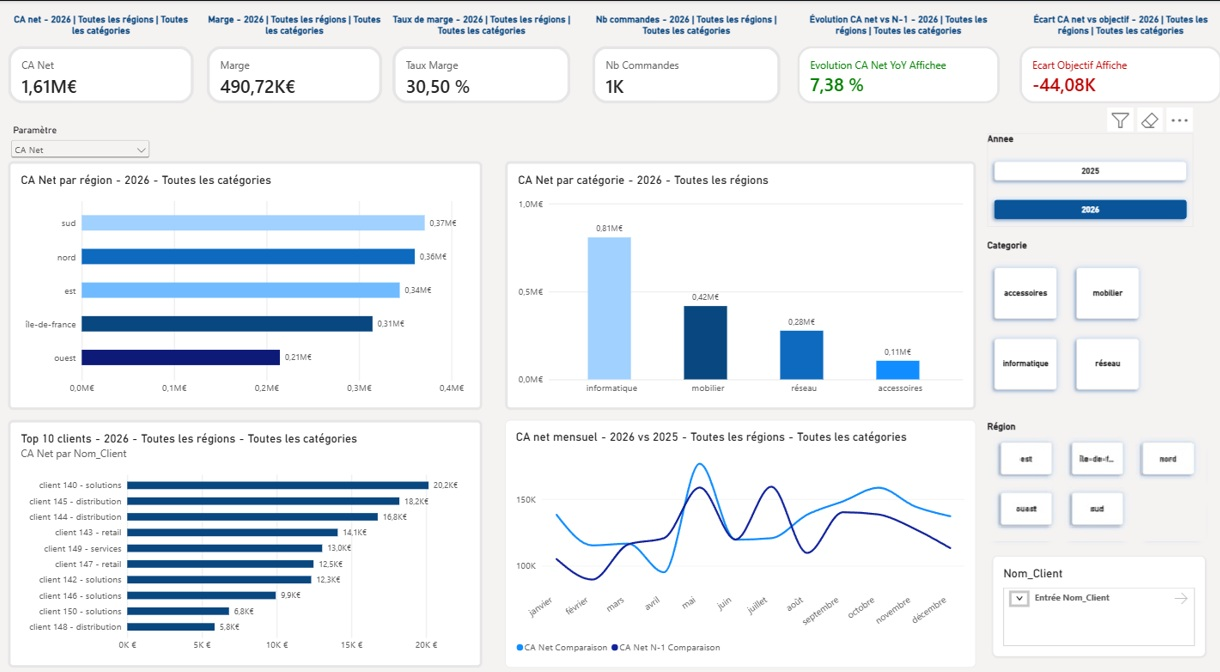

Layout of this report page (visuals, bound fields, positions):
{"tool":"powerbi","page":{"name":"Vue Direction","canvas":[1920,1080],"ordinal":0},"visuals":[{"type":"cardVisual","fields":{"Data":["Mesures.CA Net"]},"box":[16.6,21.3,290,140],"z":0},{"type":"cardVisual","fields":{"Data":["Mesures.Marge"]},"box":[326.6,21.3,274,140],"z":1000},{"type":"cardVisual","fields":{"Data":["Mesures.Taux Marge"]},"box":[616.6,21.3,278,140],"z":2000},{"type":"cardVisual","fields":{"Data":["Mesures.Nb Commandes"]},"box":[928.6,21.3,294,140],"z":3000},{"type":"cardVisual","fields":{"Data":["Mesures.Evolution CA Net YoY Affichee"]},"box":[1248.6,21.3,316,140],"z":4000},{"type":"clusteredBarChart","fields":{"Category":["DimClients.Region"],"Y":["Mesures.CA Net"]},"box":[16,252,740,388],"z":5000},{"type":"clusteredColumnChart","fields":{"Category":["DimProduit.Categorie"],"Y":["Mesures.CA Net"]},"box":[792,252,734,388],"z":6000},{"type":"clusteredBarChart","fields":{"Category":["DimClients.Nom_Client"],"Y":["Mesures.CA Net"]},"box":[16.6,655.3,740,386],"z":7000},{"type":"advancedSlicerVisual","fields":{"Values":["DimDate.Annee"]},"box":[1544,208,322,146],"z":8000},{"type":"advancedSlicerVisual","title":"Région","fields":{"Values":["DimClients.Region"]},"box":[1544,656,348,192],"z":9000},{"type":"textSlicer","fields":{"Values":["DimClients.Nom_Client"]},"box":[1552,864,332,160],"z":10000},{"type":"advancedSlicerVisual","fields":{"Values":["DimProduit.Categorie"]},"box":[1544,374,376,246],"z":11000},{"type":"cardVisual","fields":{"Data":["Mesures.Ecart Objectif Affiche"]},"box":[1594.6,21.3,316,140],"z":12000},{"type":"lineChart","fields":{"Category":["DimDate.Mois"],"Y":["Mesures.CA Net Comparaison","Mesures.CA Net N-1 Comparaison"]},"box":[792.6,655.3,734,386],"z":13000},{"type":"slicer","fields":{"Values":["Paramètre.Paramètre"]},"box":[16,194,226,88],"z":13001}]}

Visuals, with their boxes in screenshot pixels (x1, y1, x2, y2), scaled from the page's 1920x1080 canvas onto the 1220x672 screenshot:
cardVisual - Mesures.CA Net: detection(11, 13, 195, 100)
cardVisual - Mesures.Marge: detection(208, 13, 382, 100)
cardVisual - Mesures.Taux Marge: detection(392, 13, 568, 100)
cardVisual - Mesures.Nb Commandes: detection(590, 13, 777, 100)
cardVisual - Mesures.Evolution CA Net YoY Affichee: detection(793, 13, 994, 100)
clusteredBarChart - DimClients.Region x Mesures.CA Net: detection(10, 157, 480, 398)
clusteredColumnChart - DimProduit.Categorie x Mesures.CA Net: detection(503, 157, 970, 398)
clusteredBarChart - DimClients.Nom_Client x Mesures.CA Net: detection(11, 408, 481, 648)
advancedSlicerVisual - DimDate.Annee: detection(981, 129, 1186, 220)
"Région" advancedSlicerVisual: detection(981, 408, 1202, 528)
textSlicer - DimClients.Nom_Client: detection(986, 538, 1197, 637)
advancedSlicerVisual - DimProduit.Categorie: detection(981, 233, 1219, 386)
cardVisual - Mesures.Ecart Objectif Affiche: detection(1013, 13, 1214, 100)
lineChart - DimDate.Mois x Mesures.CA Net Comparaison: detection(504, 408, 970, 648)
slicer - Paramètre.Paramètre: detection(10, 121, 154, 175)
